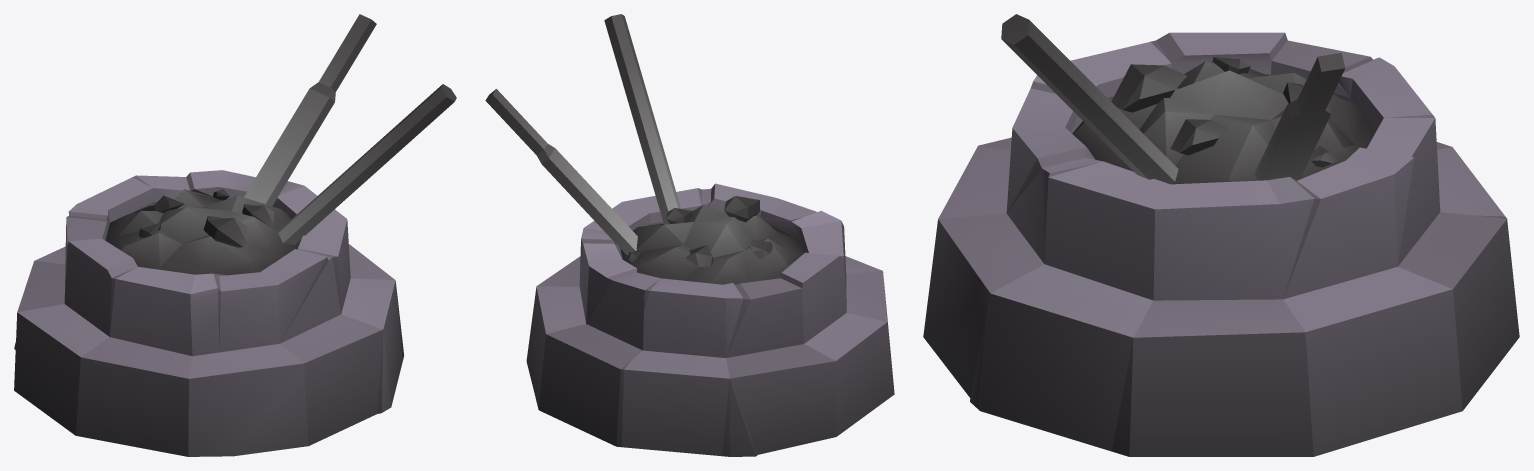
File: forge.glb
The picture shows the model from 3 angles, left to right: view 1: azimuth 30°, elevation 25°; view 2: azimuth 150°, elevation 25°; view 3: azimuth 270°, elevation 25°; orthographic projection. The views are drawn at different scales.
Parts seen in each view (by area): view 1: forge; view 2: forge; view 3: forge.
Boxes of the visible parts, x1,y1,x2,y2 form: forge: [14, 14, 456, 456]; forge: [485, 14, 894, 456]; forge: [923, 14, 1519, 456].
Size of the model in its own units: 1.25 by 0.9656 by 1.18.
Materials: 1 (1 with a texture image).
